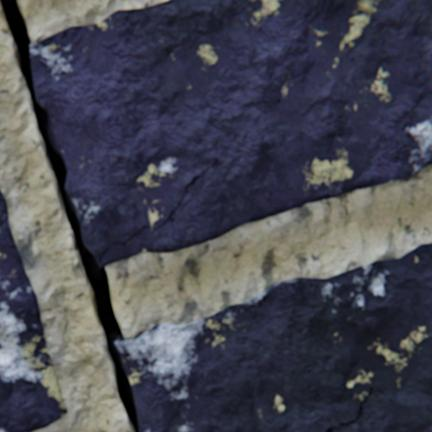brick: (30, 0, 431, 266), (115, 243, 431, 431), (0, 190, 67, 431)
crack: (0, 0, 138, 431), (325, 386, 373, 431), (181, 158, 218, 200), (102, 226, 151, 256), (153, 202, 180, 229)
